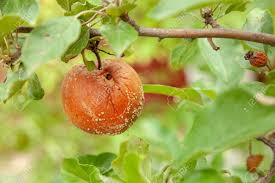damaged_apple: (64, 62, 144, 134)
